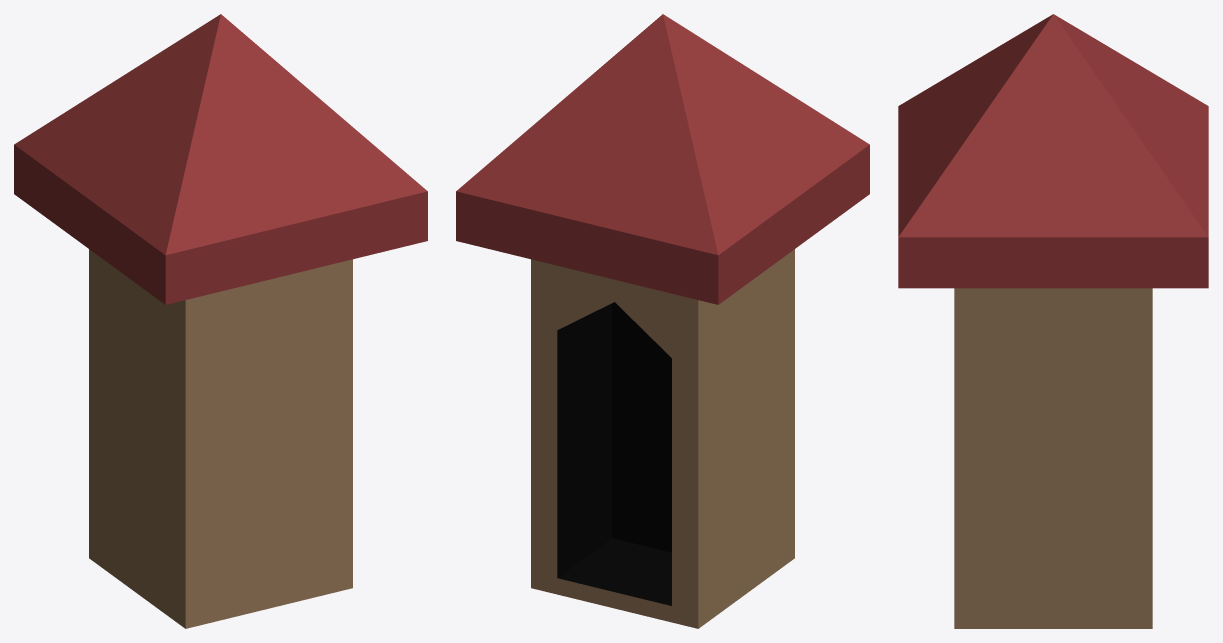
Rendered from Entrada.fbx.
3 views of the same model, side by side, from view 1: azimuth 30°, elevation 25°; view 2: azimuth 150°, elevation 25°; view 3: azimuth 270°, elevation 25° (orthographic). The views are drawn at different scales.
Visible parts, largest first — view 1: Entrada; view 2: Entrada; view 3: Entrada.
Boxes of the visible parts, x1,y1,x2,y2 form: Entrada: (14, 14, 427, 628); Entrada: (456, 14, 869, 628); Entrada: (898, 14, 1208, 628).
Size of the model in its own units: 529 by 1078 by 529.
